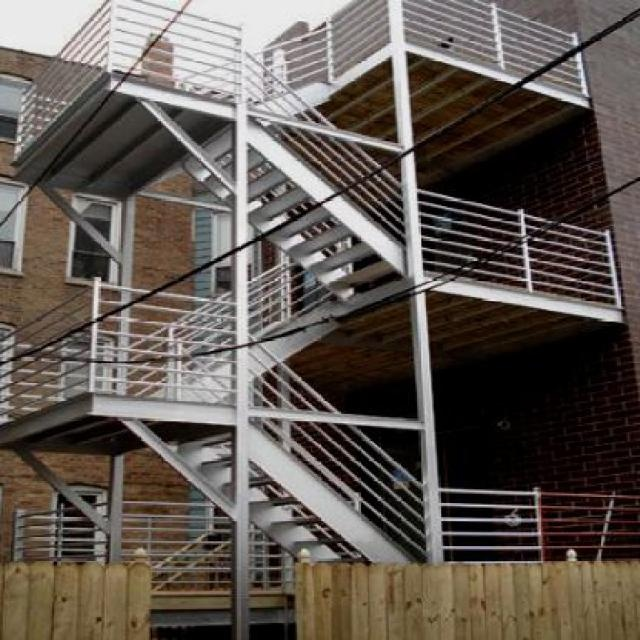stair: (58, 26, 472, 300), (166, 325, 439, 567)
